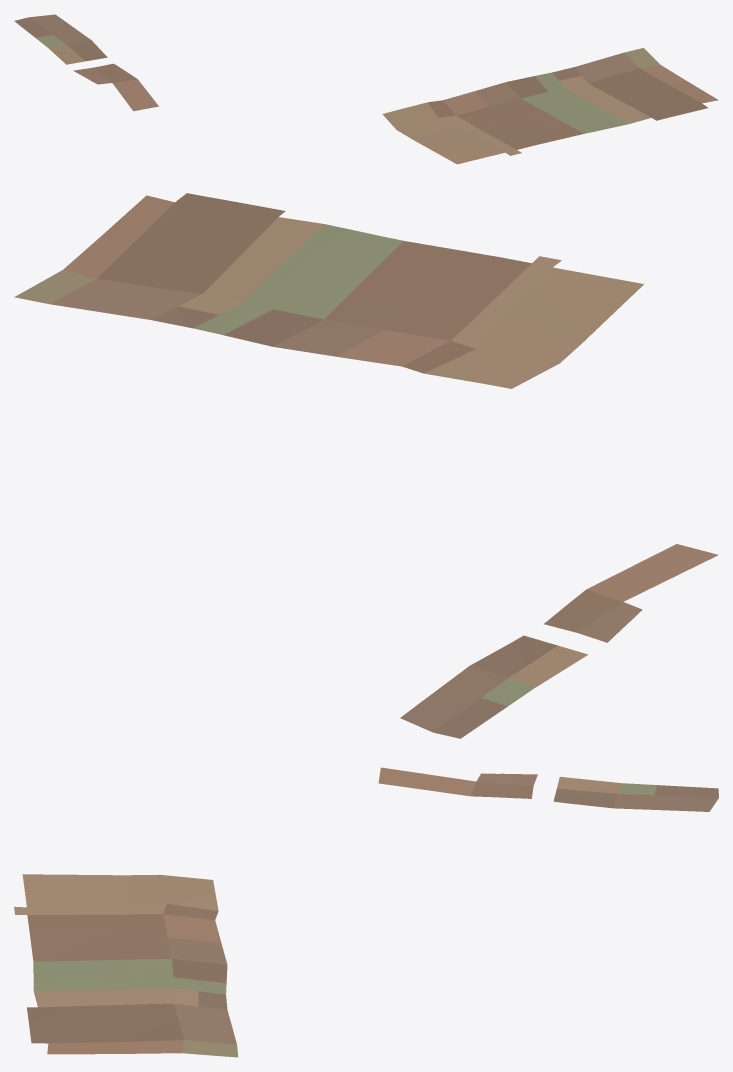
The model's file is farm_16_22_soil.glb.
3 renders of one model, top to bottom at view 1: azimuth 30°, elevation 25°; view 2: azimuth 150°, elevation 25°; view 3: azimuth 270°, elevation 25°, orthographic. The views are drawn at different scales.
Visible parts, largest first — view 1: geometry_0; view 2: geometry_0; view 3: geometry_0.
Boxes of the visible parts, x1,y1,x2,y2 form: geometry_0: (14,14,718,164); geometry_0: (14,193,718,738); geometry_0: (14,767,718,1057).
Bounding box in the file's own units: 430 × 13.93 × 454.
